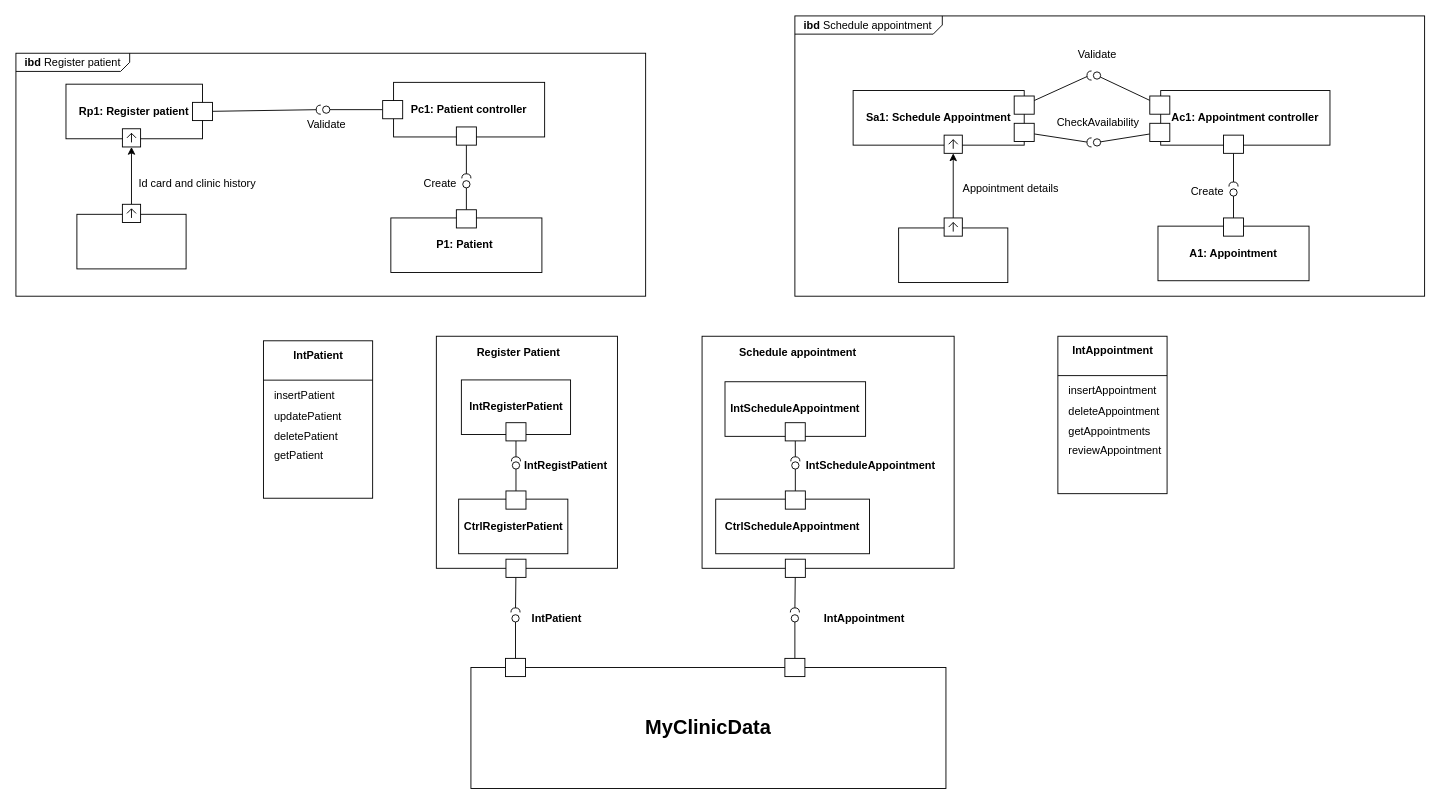
The diagram is 1441 pixels wide and 804 high, and some of its shapes have lost their labels. The centre of each missing label's shape, as x and y in pixels:
"Ad1: appointment details" goes at (x=953, y=255).
"D1: documents" goes at (x=131, y=241).
